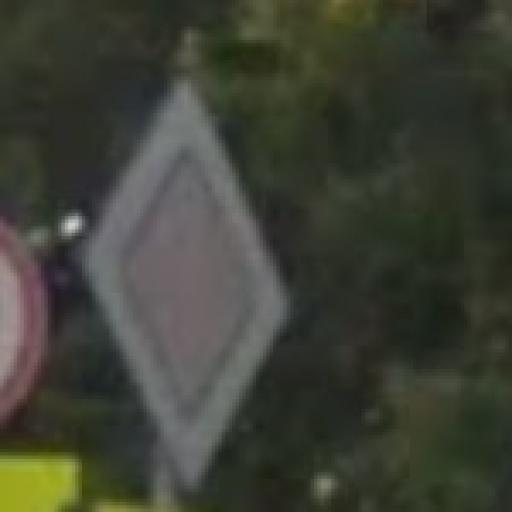traffic_sign: (73, 75, 301, 497)
